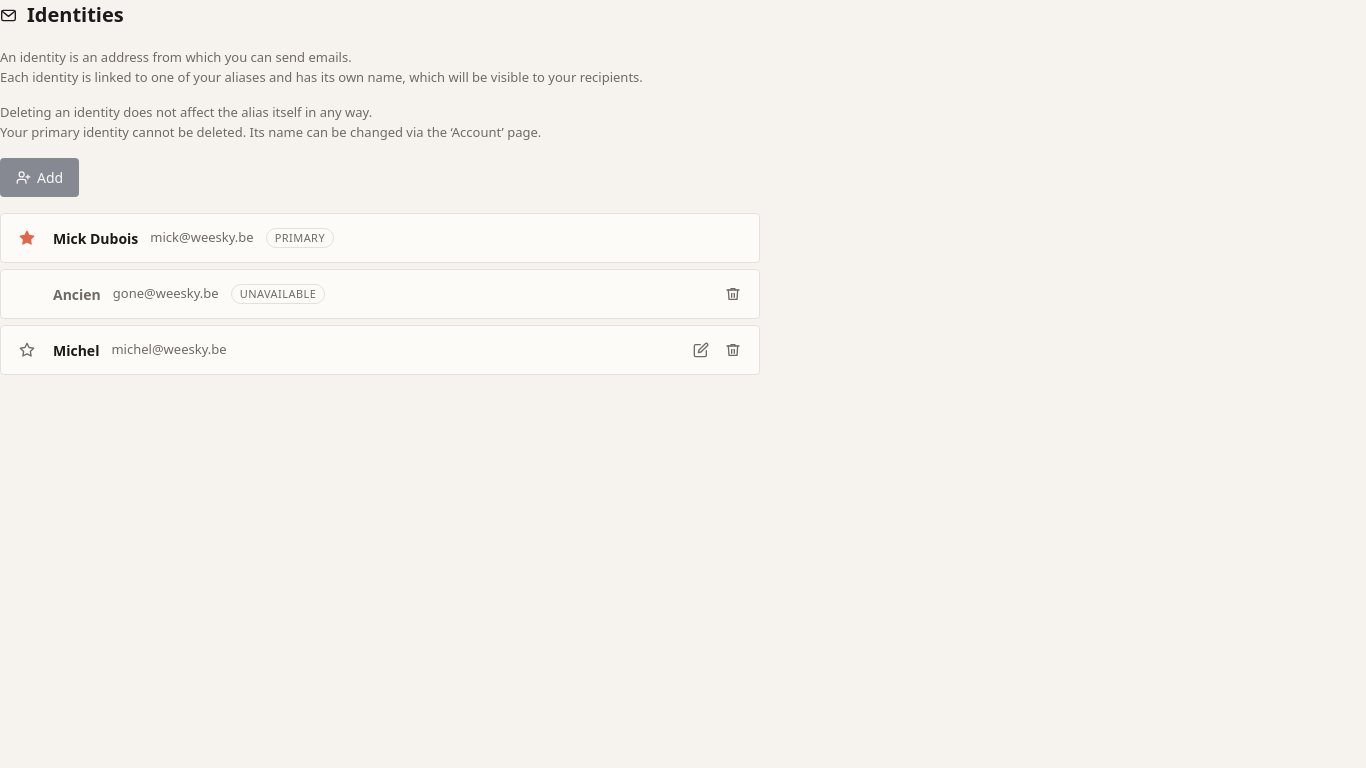
IdentitiesPage › a refused save shows the local fallback and puts the server state back on screen
Step 1. Click the button named "Edit michel@weesky.be" → (701, 350), box [687, 336, 715, 364]
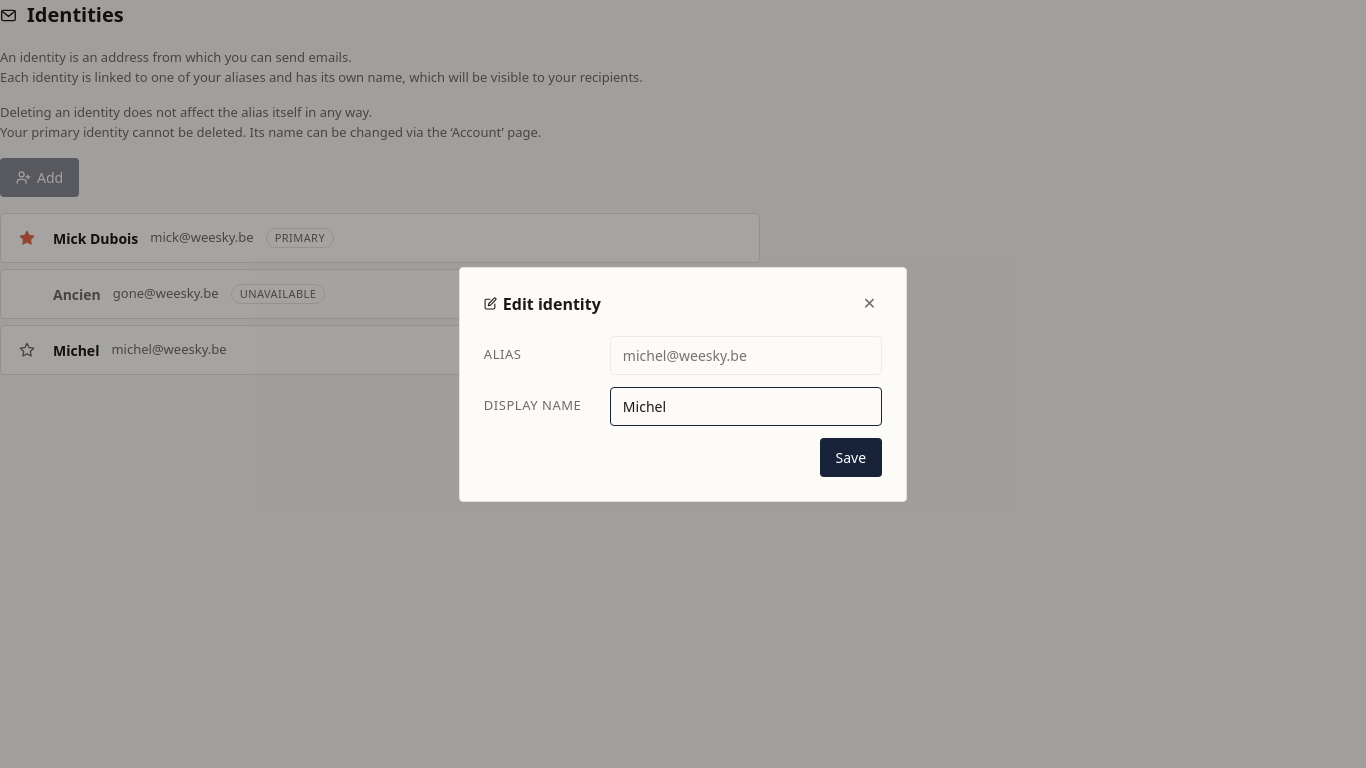
Step 2. Replace the text in the field labelled "Display name" with "Michel D." → (746, 406), box [610, 386, 882, 426]
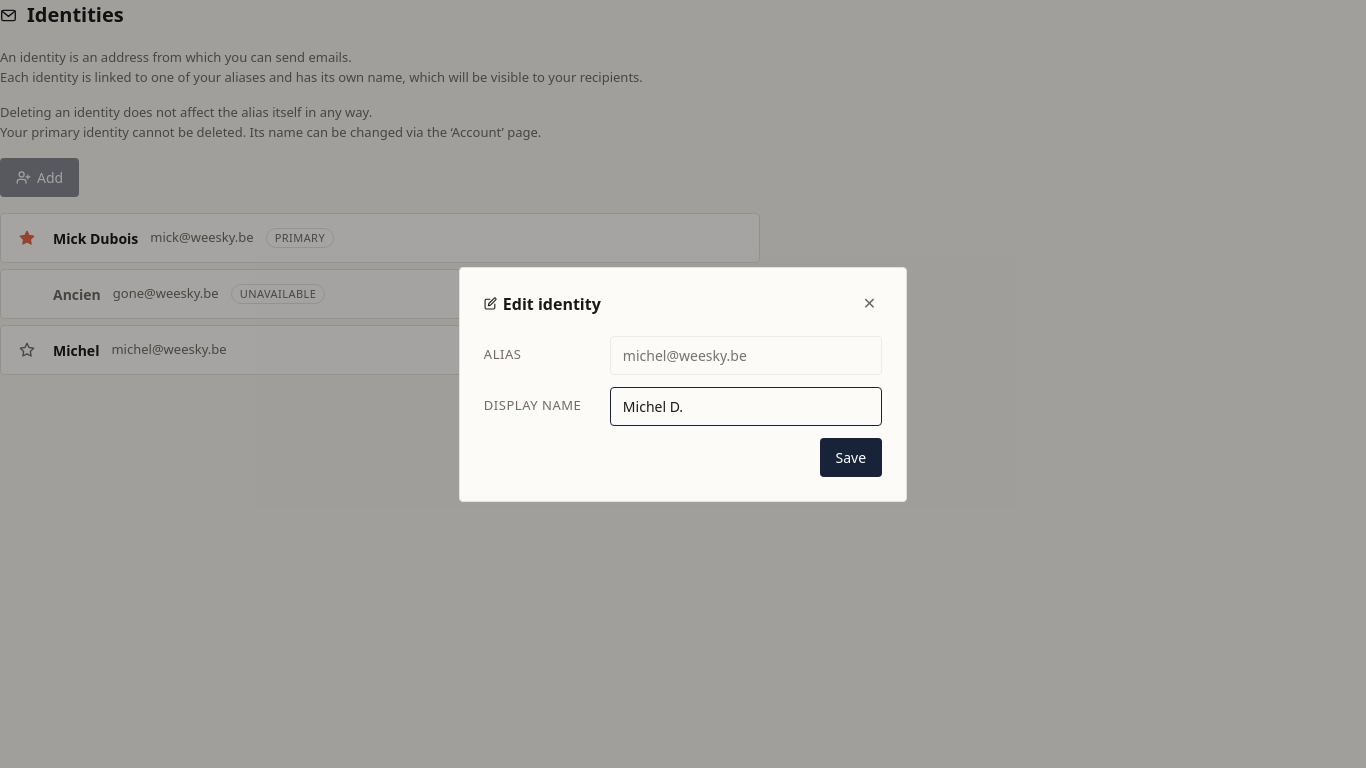
Step 3. Click the button "Save" → (851, 457), box [820, 438, 882, 476]
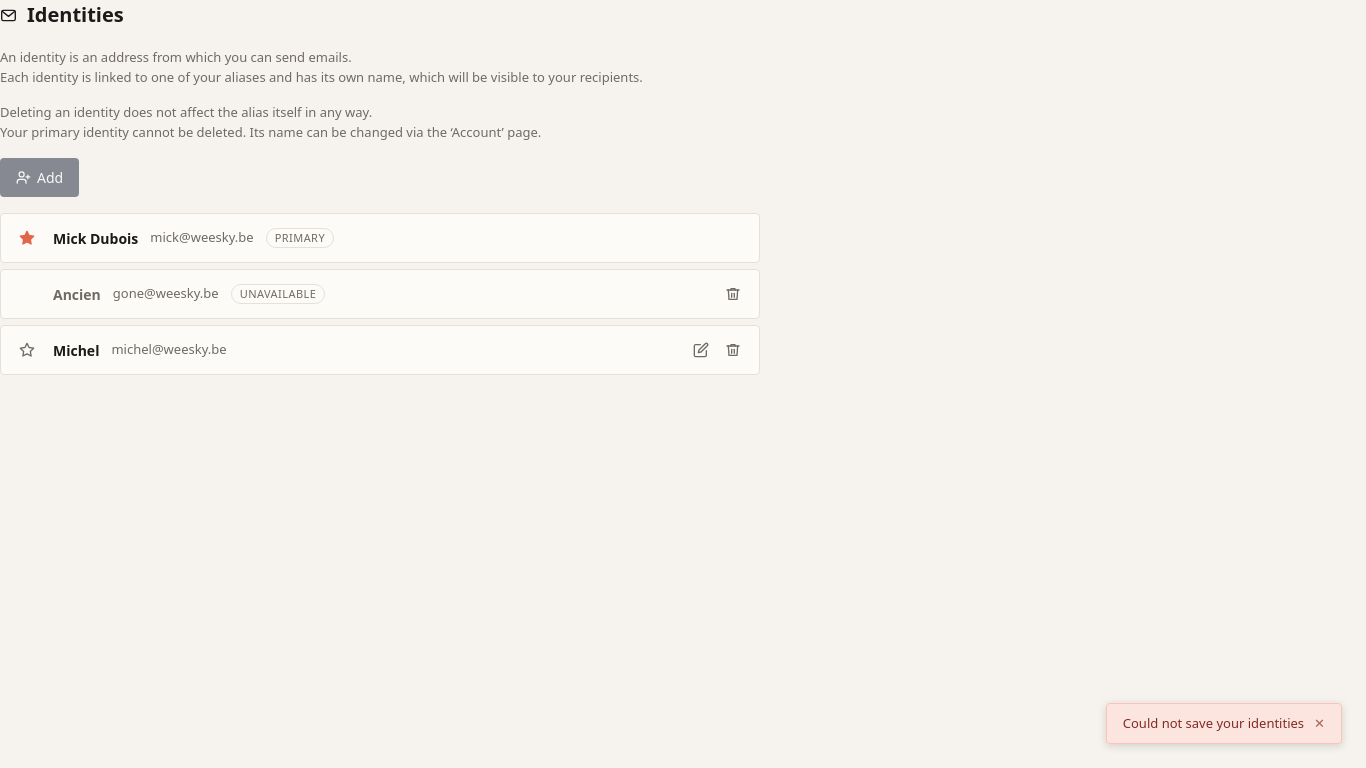
Check: the text "Michel" is shown, box [53, 340, 99, 360]
Check: the text "Could not save your identities" is shown, box [1123, 714, 1304, 733]
